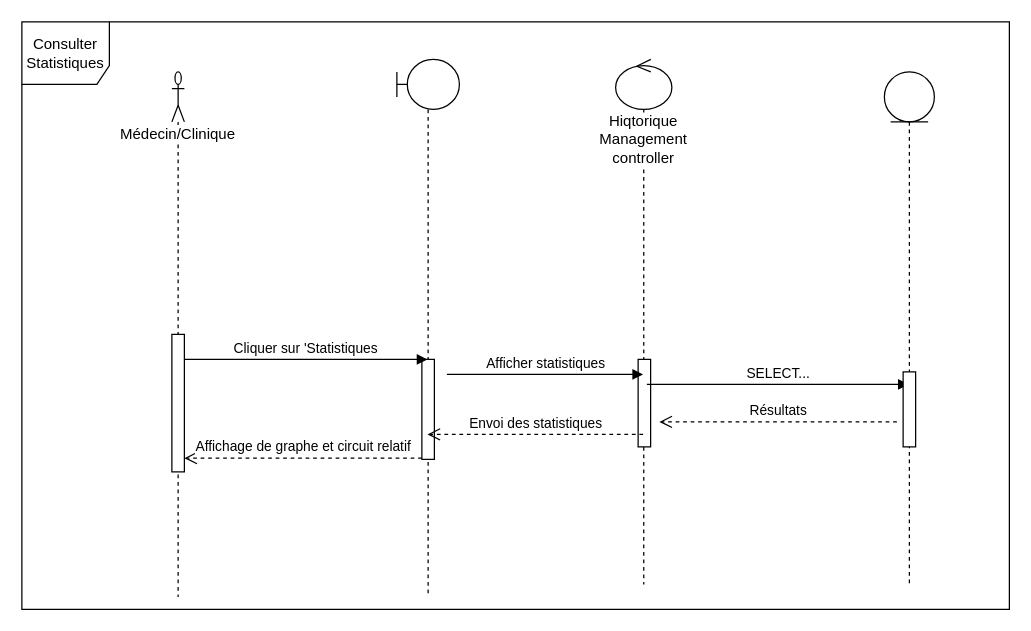
The diagram is 1031 pixels wide and 631 high, and some of its shapes have lost their labels. Each missing label, with the box of its shape:
Hisorique: (883, 71, 934, 584)
Historique Management: (396, 58, 459, 597)
